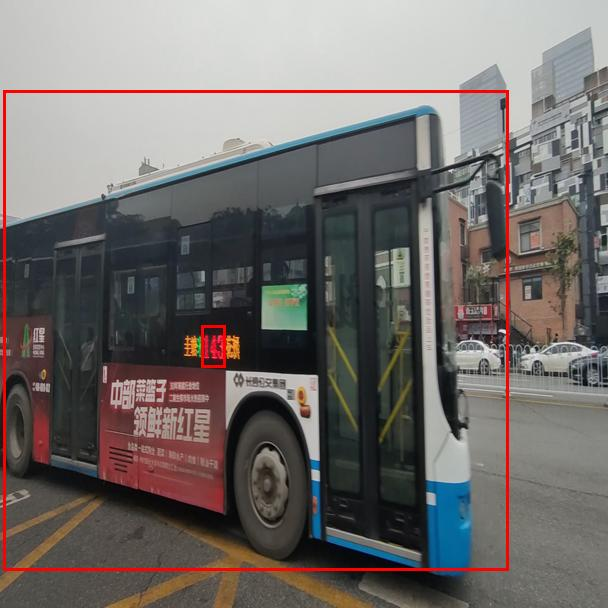bus: (3, 90, 508, 570)
screen: (201, 325, 225, 367)
